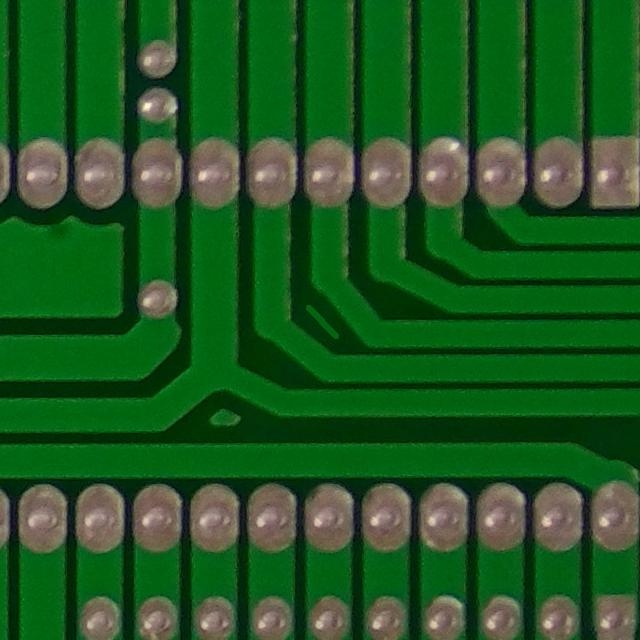spurious_copper: (277, 285, 362, 355)
